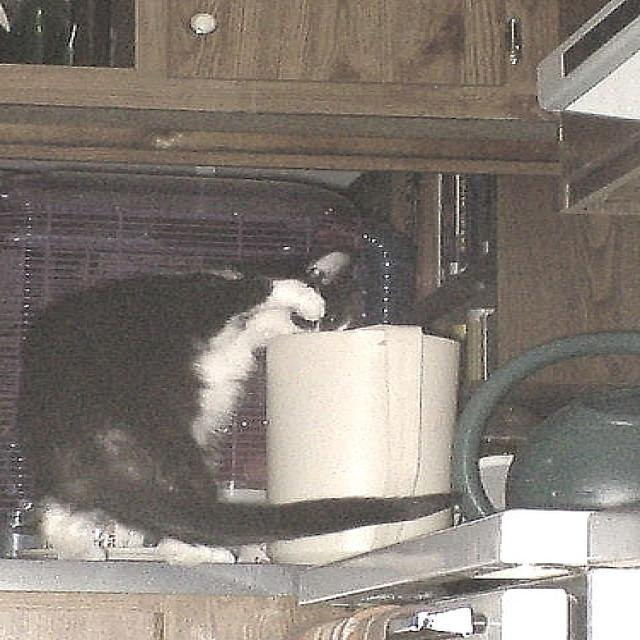cat: (20, 251, 463, 567)
